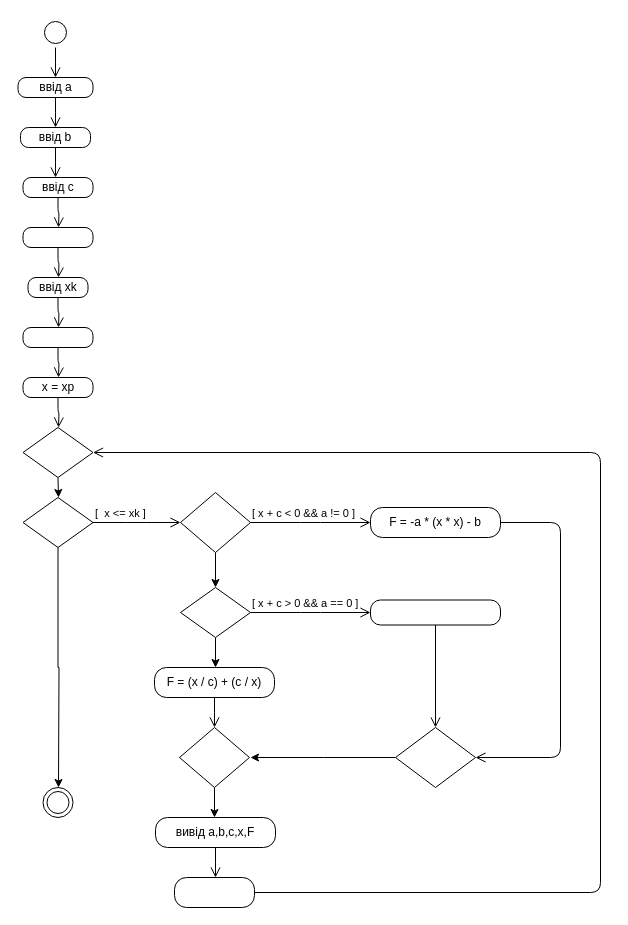
This 628x925 diagram has some shape labels left out. Each missing label, with the box of its shape:
F = (x - a) / (x - c): (370, 599, 500, 625)
x += dx: (174, 876, 254, 908)
ввід dx: (22, 326, 93, 348)
ввід xp: (22, 226, 93, 248)
